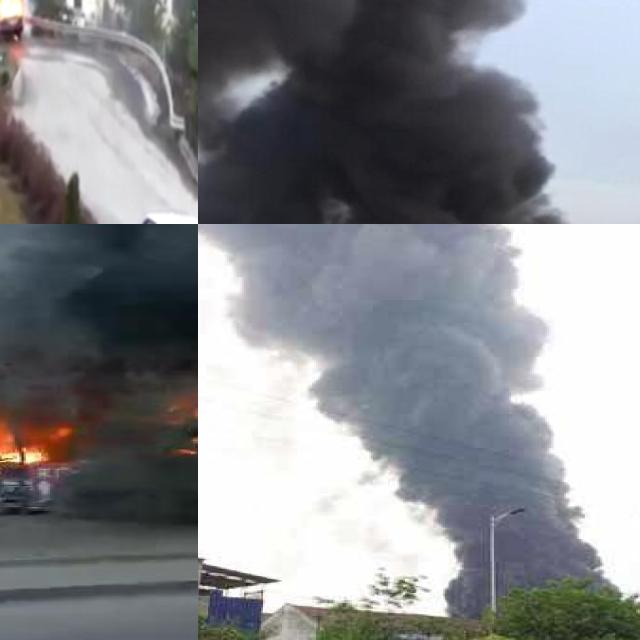fire: (0, 425, 56, 475), (0, 0, 23, 21)
smoke: (198, 224, 624, 613), (198, 0, 571, 224), (0, 224, 198, 450)
